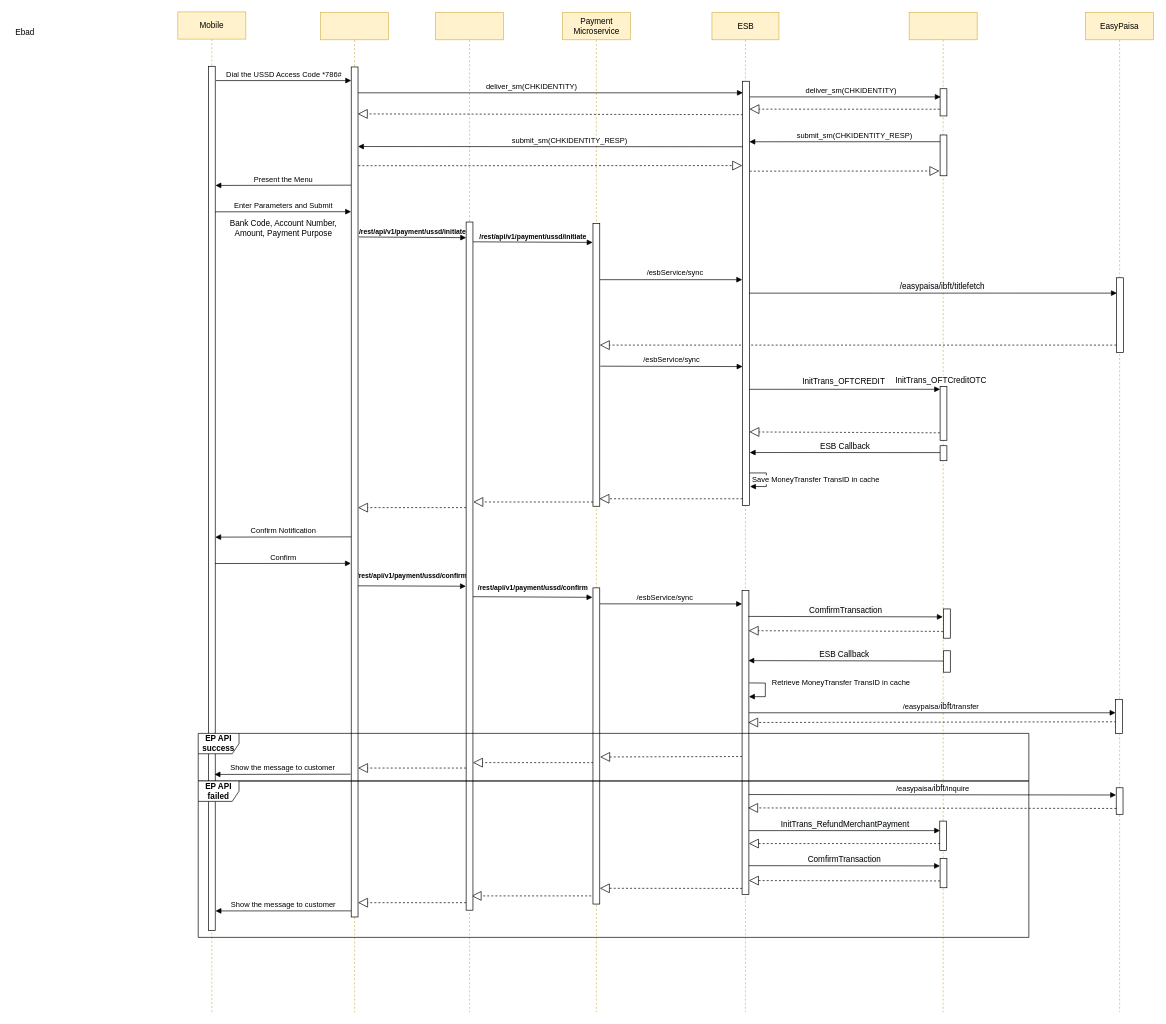
This 1166x1024 diagram has some shape labels left out. The box of each missing label's shape, as (x1, y1, x2, y2) in pixels:
API Gateway: (435, 12, 504, 1012)
CPS: (908, 12, 977, 1012)
USSD GW: (320, 12, 389, 1012)
